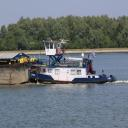tugboat: (28, 40, 120, 87)
